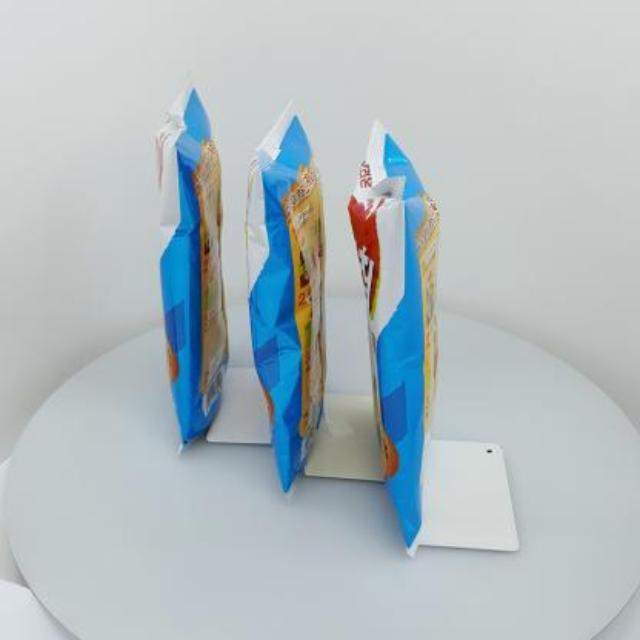snack_bag: (128, 56, 488, 584)
